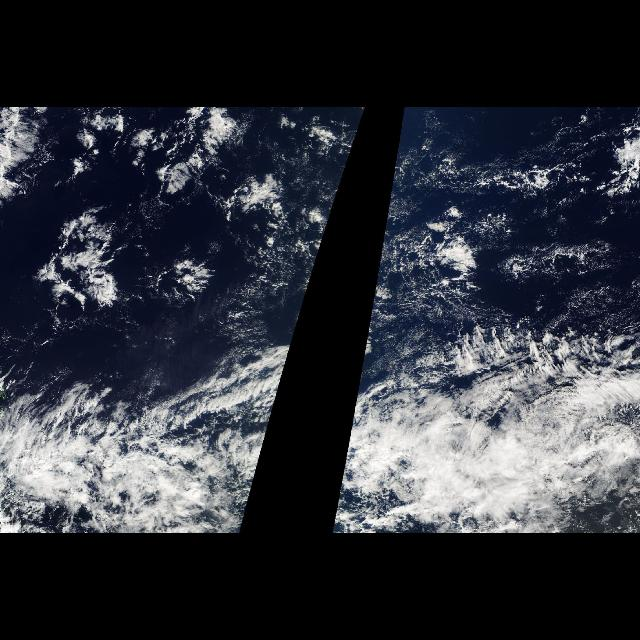Fish: (2, 108, 302, 440), (408, 318, 640, 408), (348, 316, 384, 440)
Gravel: (376, 122, 640, 316)
